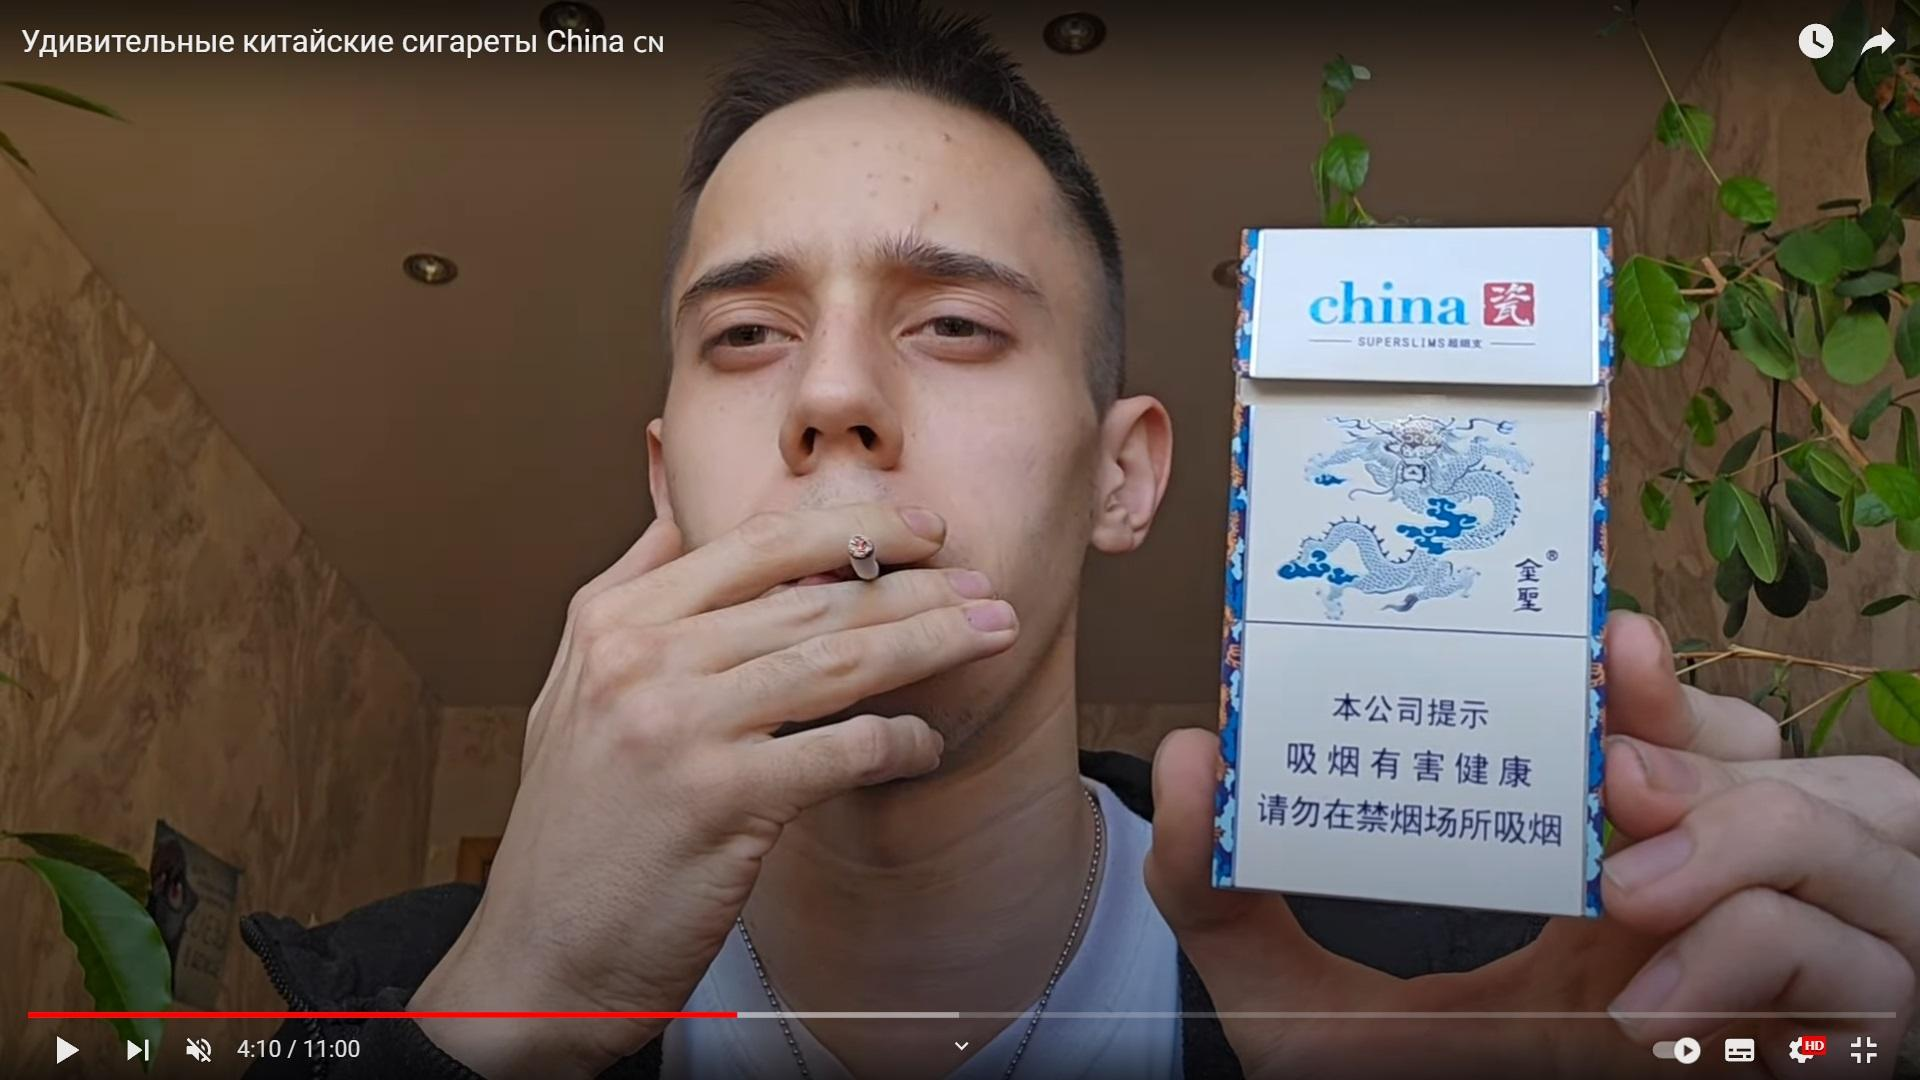cigarette: (848, 535, 881, 582)
